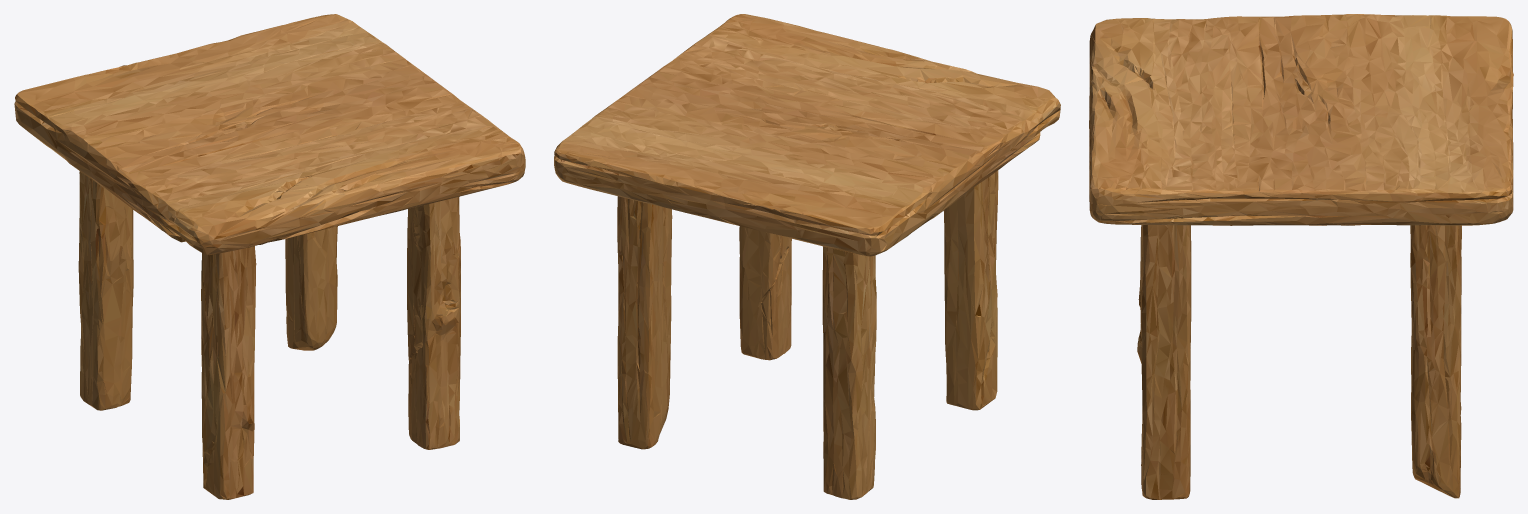
File: stand.glb
3 renders of one model, left to right at view 1: azimuth 30°, elevation 25°; view 2: azimuth 150°, elevation 25°; view 3: azimuth 270°, elevation 25°, orthographic. The views are drawn at different scales.
Visible parts, largest first — view 1: geometry_0; view 2: geometry_0; view 3: geometry_0.
Boxes of the visible parts, box(x1,y1,x2,y2) form: geometry_0: box(14, 14, 525, 499); geometry_0: box(554, 14, 1060, 499); geometry_0: box(1089, 14, 1513, 499).
Size of the model in its own units: 0.4608 by 0.4 by 0.4606.
1 material, 1 textured.
